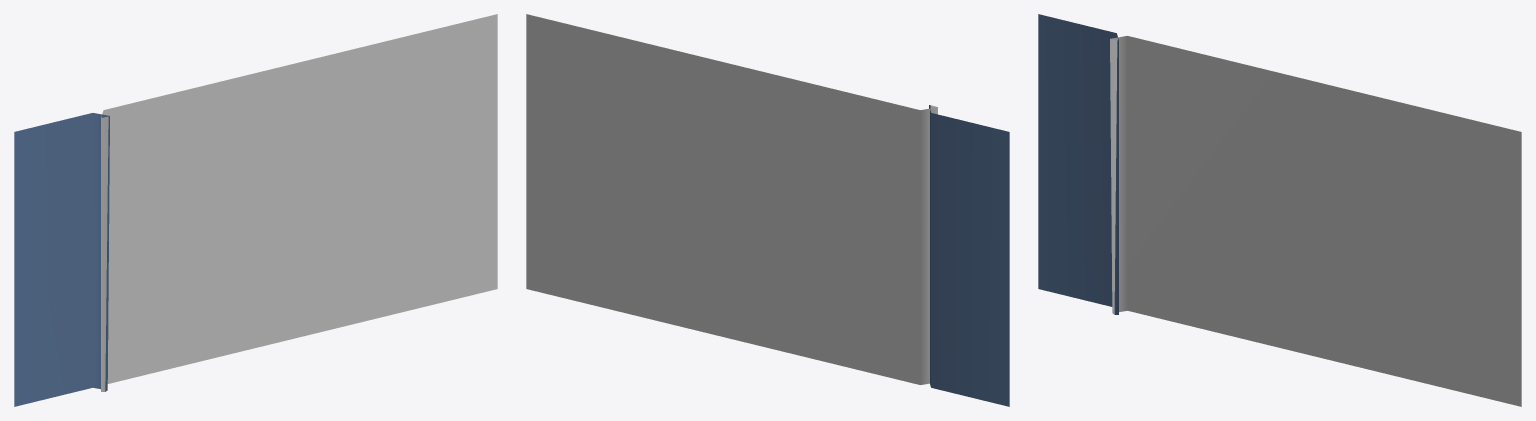
3 views of the same model, side by side, from view 1: azimuth 30°, elevation 25°; view 2: azimuth 150°, elevation 25°; view 3: azimuth 330°, elevation 25° (orthographic).
Parts seen in each view (by area): view 1: 6002ABD646DF285CCEC1DF98C94DF7B3; view 2: 6002ABD646DF285CCEC1DF98C94DF7B3; view 3: 6002ABD646DF285CCEC1DF98C94DF7B3.
Boxes of the visible parts, box(x1,y1,x2,y2) form: 6002ABD646DF285CCEC1DF98C94DF7B3: box(14, 14, 497, 406); 6002ABD646DF285CCEC1DF98C94DF7B3: box(526, 14, 1009, 406); 6002ABD646DF285CCEC1DF98C94DF7B3: box(1038, 14, 1521, 406).
Bounding box in the file's own units: 0.5953 × 21.61 × 11.75.
